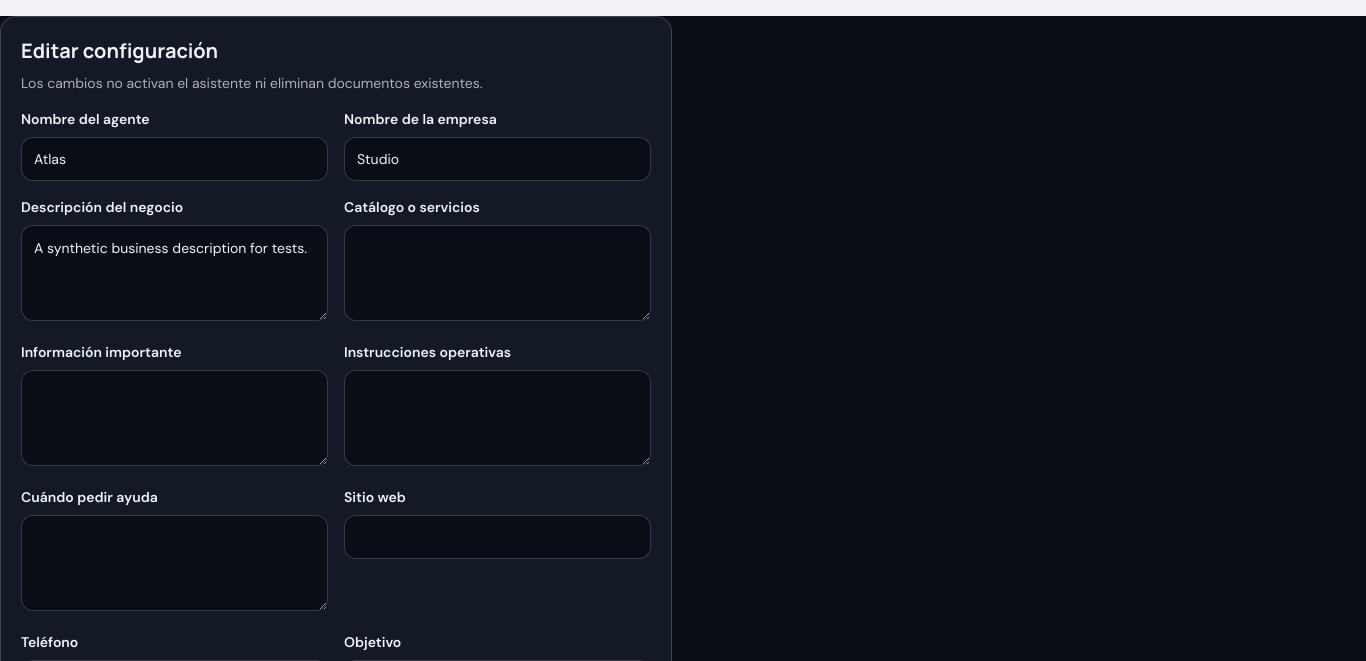
Test: existing agent editor with synthetic services › blocks retry after a conflict
Replace the text in the field labelled "Nombre del agente" with "Nuevo": coordinates (174, 159) [21,137,328,181]
(page scrolled)
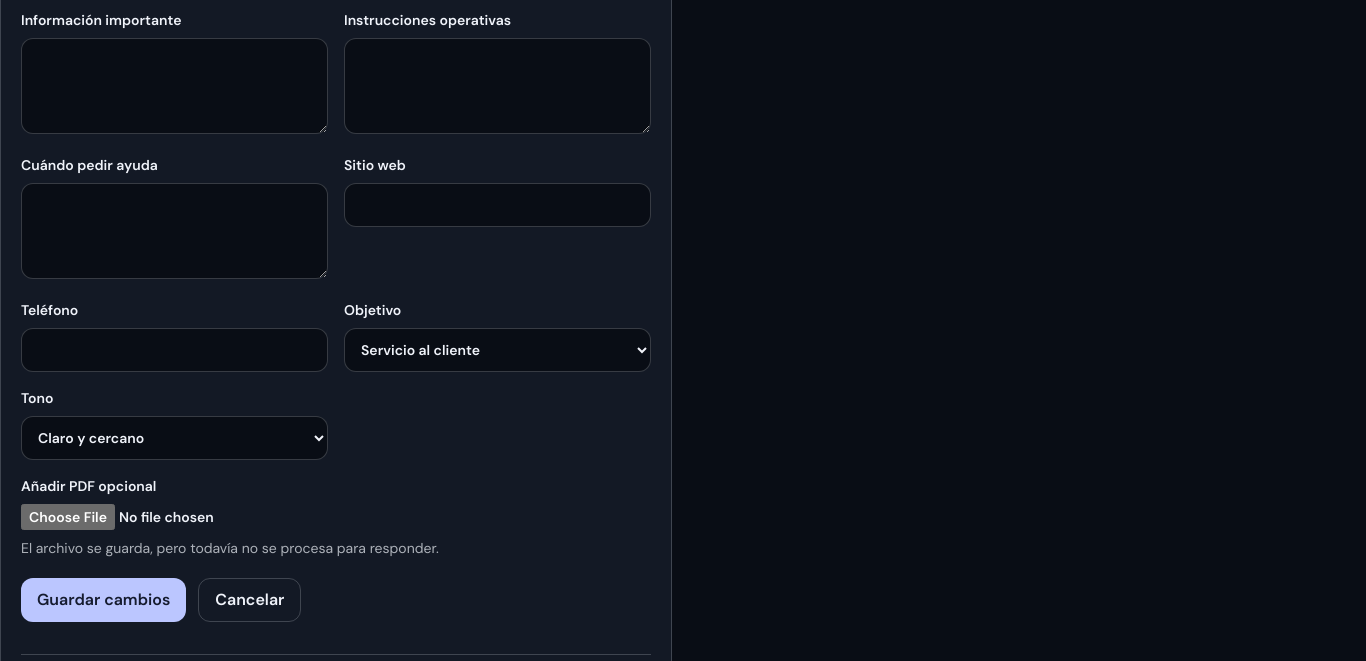
Click the button "Guardar cambios": coordinates (104, 600) [21,578,186,622]
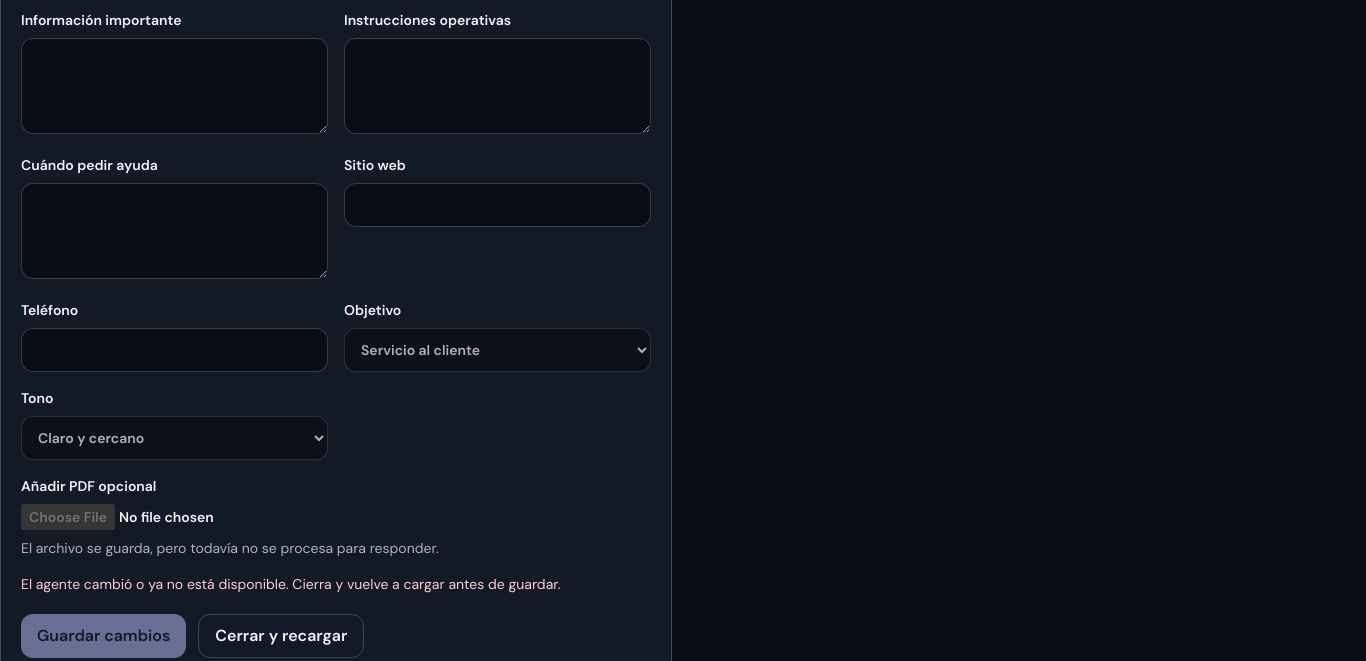
expect the message shows "cambió": met, box [21,575,561,593]
expect the button "Guardar cambios" is disabled: met, box [21,614,186,658]
